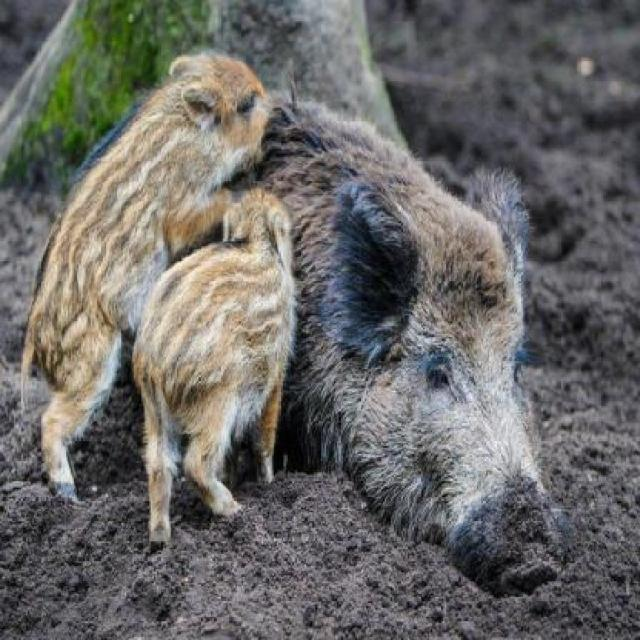wildboar: (0, 84, 563, 640), (12, 47, 292, 525), (129, 176, 296, 549)
